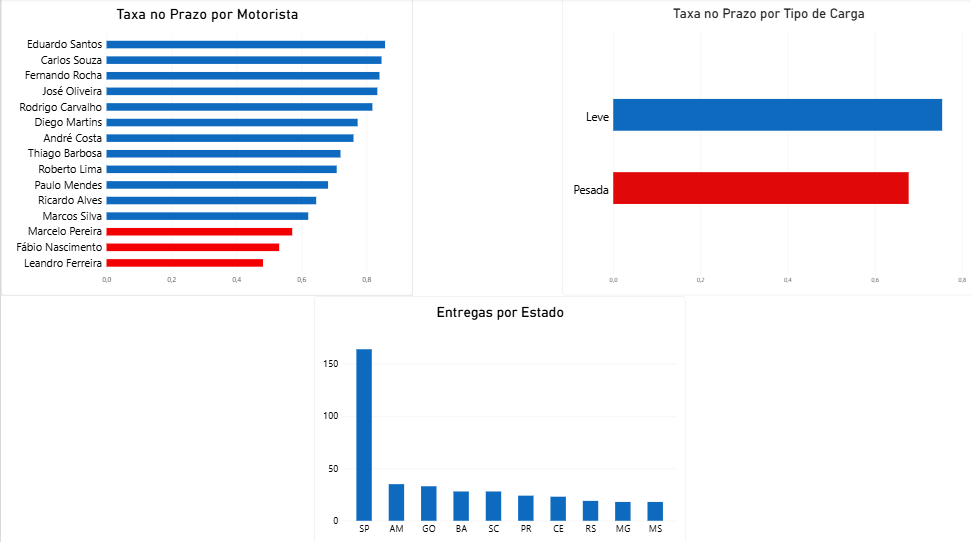

The dashboard page shown, as its layout file describes it:
{"tool":"powerbi","page":{"name":"Desempenho Operacional","canvas":[1920,1080],"ordinal":1},"visuals":[{"type":"clusteredBarChart","title":"Taxa no Prazo por Motorista","fields":{"Category":["entregas_powerbi.motorista"],"Y":["Avg(entregas_powerbi.no_prazo)"]},"box":[0,0,811.4,586.3],"z":0},{"type":"barChart","title":"Taxa no Prazo por Tipo de Carga","fields":{"Category":["entregas_powerbi.Tipo_Carga"],"Y":["Avg(entregas_powerbi.no_prazo)"]},"box":[1106.6,0,813.4,586.3],"z":1},{"type":"clusteredColumnChart","title":"Entregas por Estado","fields":{"Category":["entregas_powerbi.estado"],"Y":["CountNonNull(entregas_powerbi.id_entrega)"]},"box":[615.9,587,731.6,494],"z":2}]}

Visuals, with their boxes in screenshot pixels (x1, y1, x2, y2), scaled from the page's 1920x1080 canvas onto the 971x542 screenshot:
"Taxa no Prazo por Motorista" clusteredBarChart: x1=0 y1=0 x2=410 y2=294
"Taxa no Prazo por Tipo de Carga" barChart: x1=560 y1=0 x2=970 y2=294
"Entregas por Estado" clusteredColumnChart: x1=311 y1=295 x2=681 y2=541
